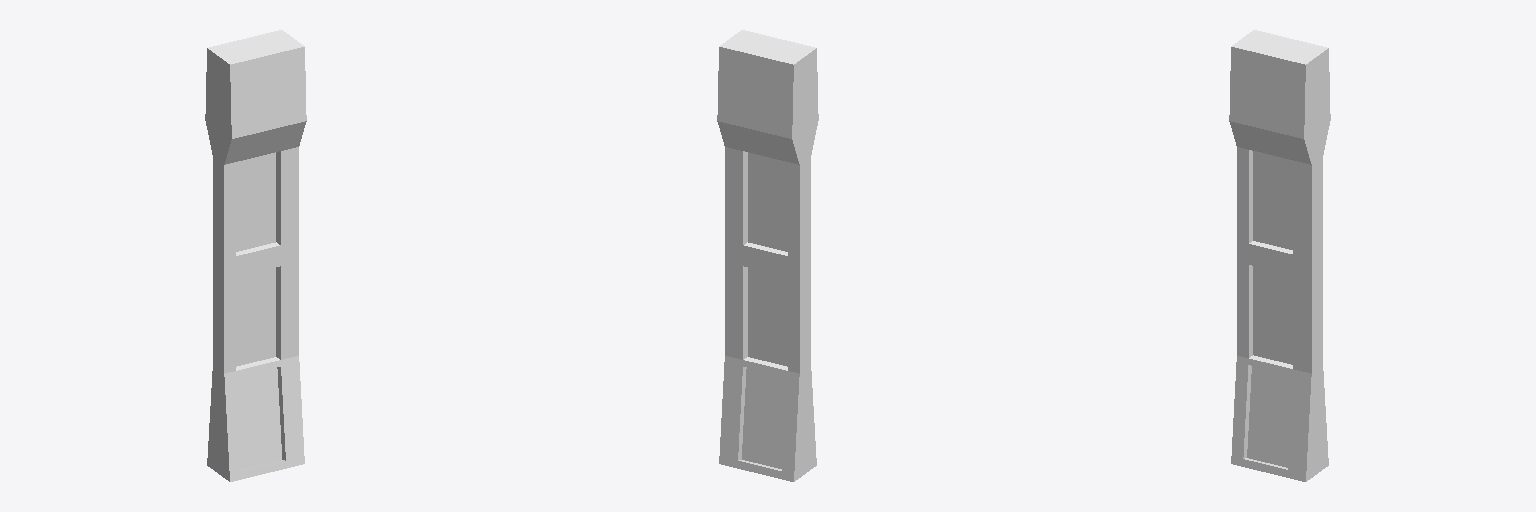
File: Door.obj
3 views of the same model, side by side, from view 1: azimuth 30°, elevation 25°; view 2: azimuth 150°, elevation 25°; view 3: azimuth 330°, elevation 25° (orthographic).
Visible parts, largest first — view 1: Door_Cube.009; view 2: Door_Cube.009; view 3: Door_Cube.009.
Part boxes in pixels (bbox=[...]): Door_Cube.009: bbox=[205, 30, 306, 481]; Door_Cube.009: bbox=[717, 30, 818, 481]; Door_Cube.009: bbox=[1229, 30, 1330, 481].
Bounding box in the file's own units: 0.75 × 4 × 0.4596.